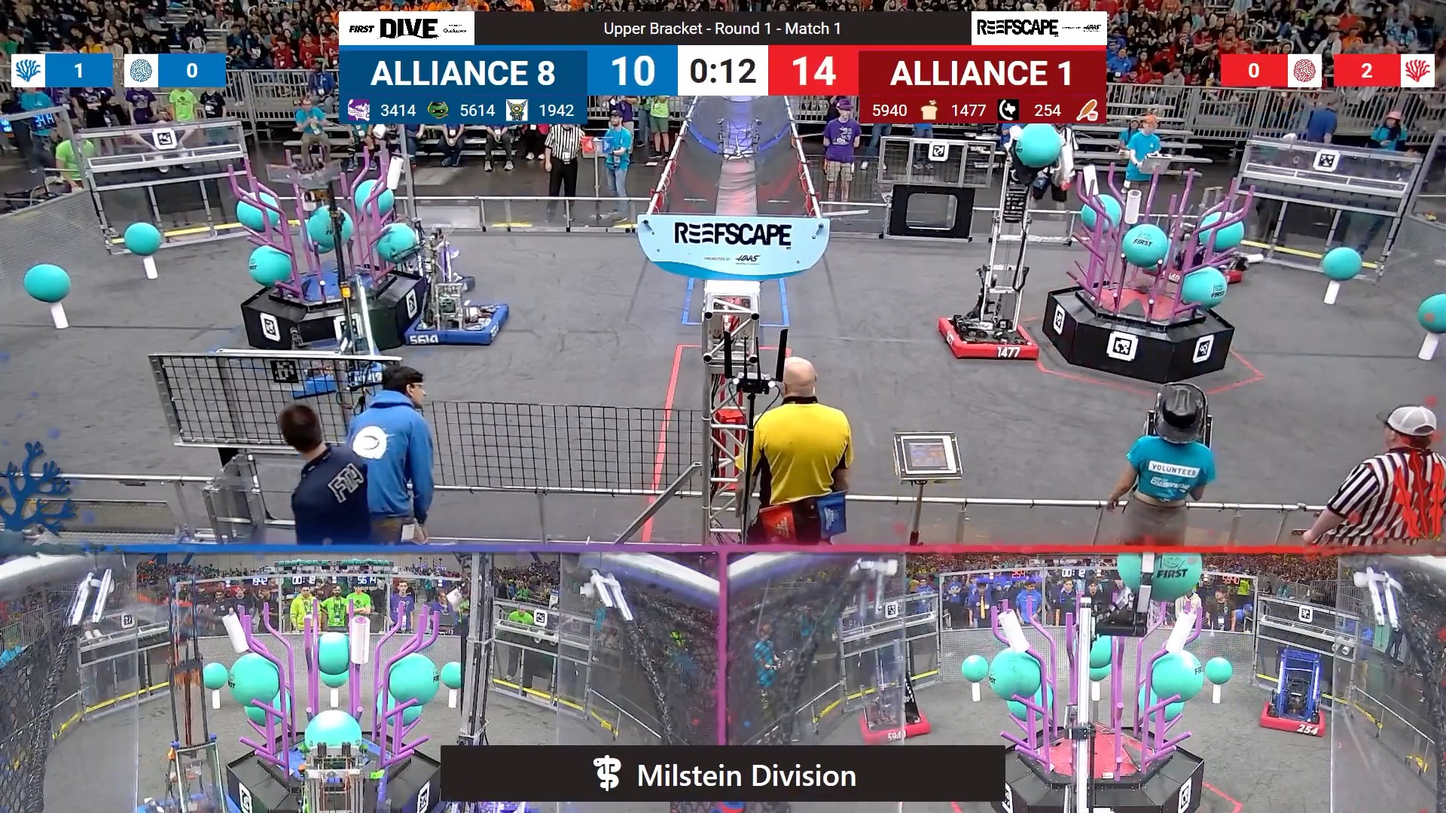bumpers: (280, 353, 407, 405), (933, 315, 1047, 368), (406, 300, 512, 353), (849, 695, 946, 749), (133, 777, 238, 813), (1256, 695, 1329, 741)
